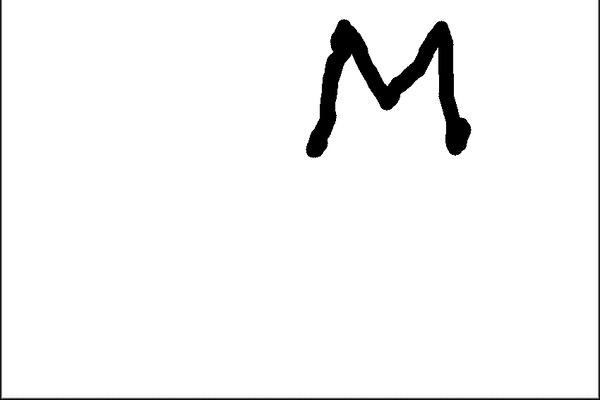M: (301, 18, 473, 157)
